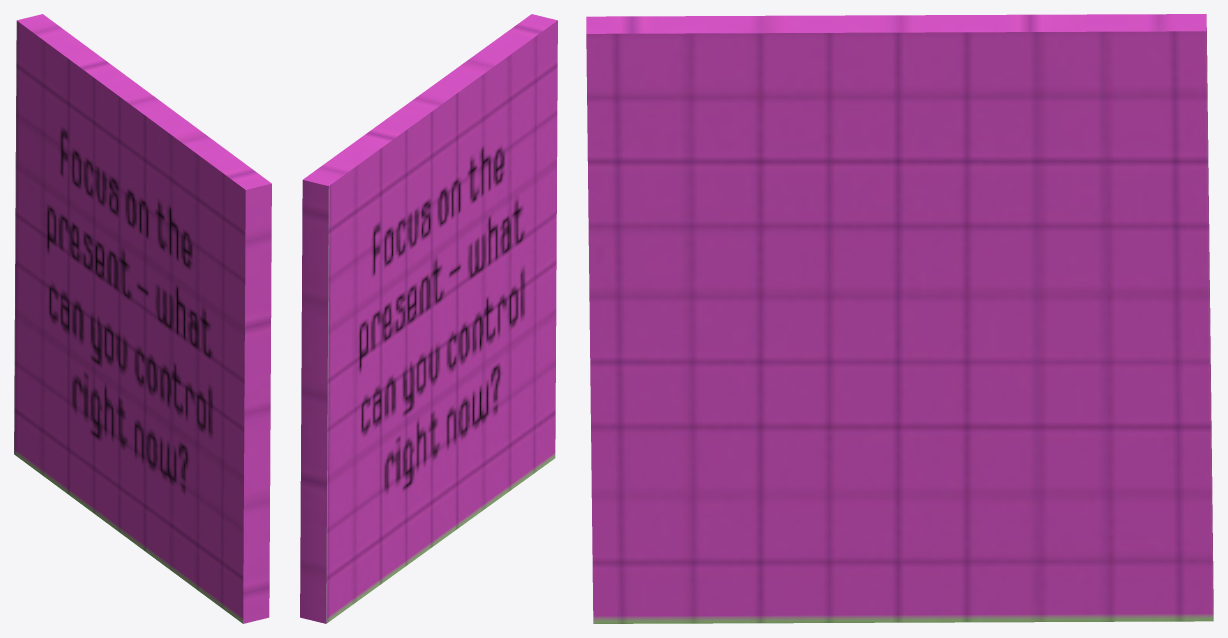
Rendered from note4.fbx.
3 views of the same model, side by side, from view 1: azimuth 30°, elevation 25°; view 2: azimuth 150°, elevation 25°; view 3: azimuth 270°, elevation 25° (orthographic). The views are drawn at different scales.
Visible parts, largest first — view 1: note4; view 2: note4; view 3: note4.
Boxes of the visible parts, left/top/right/bottom form: note4: left=14, top=14, right=271, bottom=623; note4: left=300, top=14, right=557, bottom=623; note4: left=586, top=14, right=1213, bottom=623.
Size of the model in its own units: 1.53 by 24.35 by 23.36.
1 material, 1 textured.
